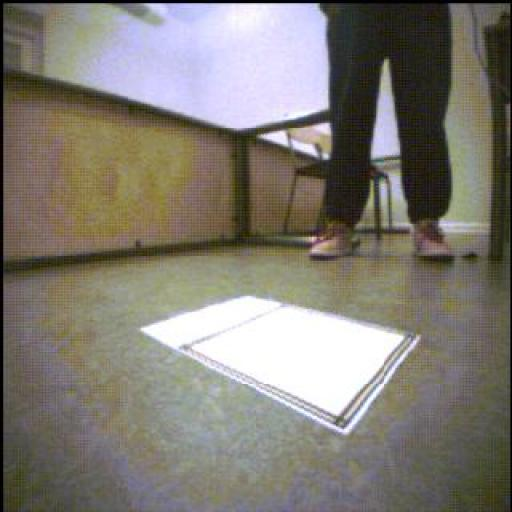Pad: (142, 297, 420, 435)
